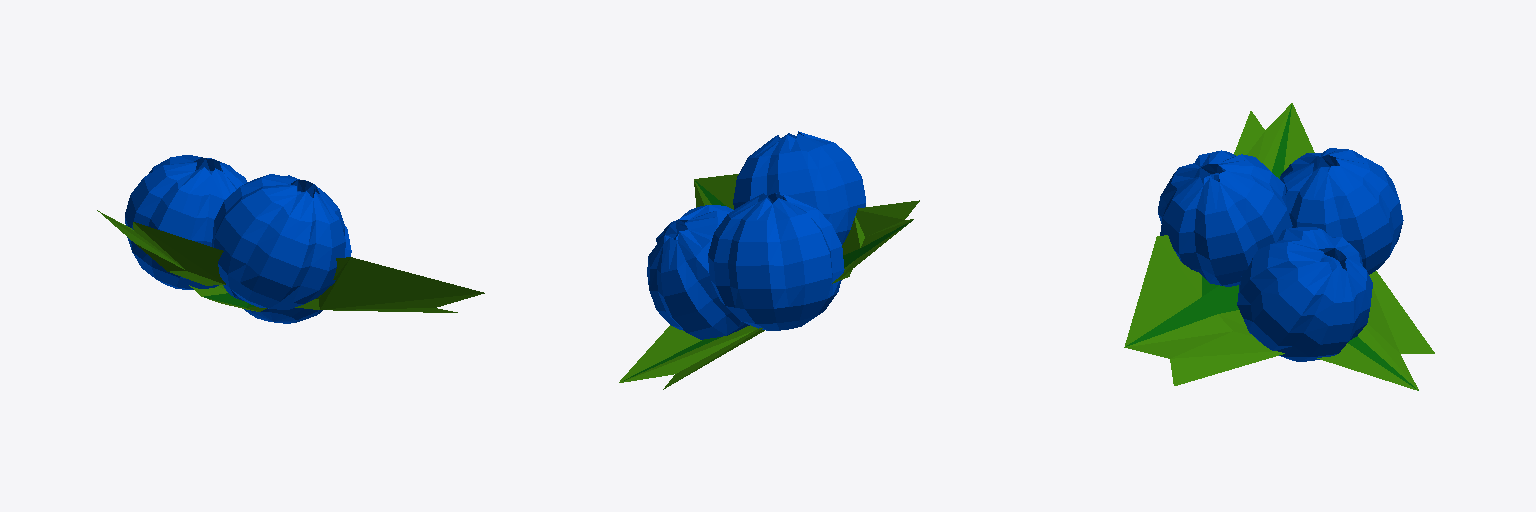
3 views of the same model, side by side, from view 1: azimuth 30°, elevation 25°; view 2: azimuth 150°, elevation 25°; view 3: azimuth 270°, elevation 25° (orthographic).
Parts seen in each view (by area): view 1: group[number redacted], group[number redacted], group[number redacted], group[number redacted], group[number redacted], group[number redacted]; view 2: group[number redacted], group[number redacted], group[number redacted], group[number redacted], group[number redacted], group[number redacted]; view 3: group[number redacted], group[number redacted], group[number redacted], group[number redacted], group[number redacted], group[number redacted].
Boxes of the visible parts, box(x1,y1,x2,y2) form: group[number redacted]: box(212, 174, 345, 309); group[number redacted]: box(125, 155, 247, 289); group[number redacted]: box(295, 257, 484, 312); group[number redacted]: box(97, 210, 225, 285); group[number redacted]: box(223, 226, 351, 323); group[number redacted]: box(189, 285, 266, 311); group[number redacted]: box(708, 193, 844, 330); group[number redacted]: box(733, 131, 865, 244); group[number redacted]: box(647, 205, 749, 339); group[number redacted]: box(619, 325, 764, 389); group[number redacted]: box(832, 200, 919, 283); group[number redacted]: box(694, 174, 738, 209); group[number redacted]: box(1237, 227, 1372, 361); group[number redacted]: box(1158, 150, 1292, 286); group[number redacted]: box(1124, 235, 1284, 385); group[number redacted]: box(1280, 148, 1403, 274); group[number redacted]: box(1317, 271, 1434, 390); group[number redacted]: box(1234, 103, 1314, 178).
Size of the model in its own units: 0.7289 by 0.4372 by 0.6417.